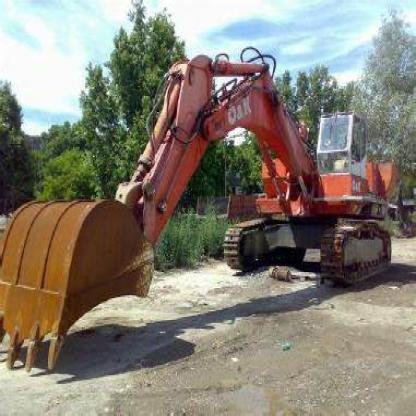excavator: (1, 39, 412, 374)
